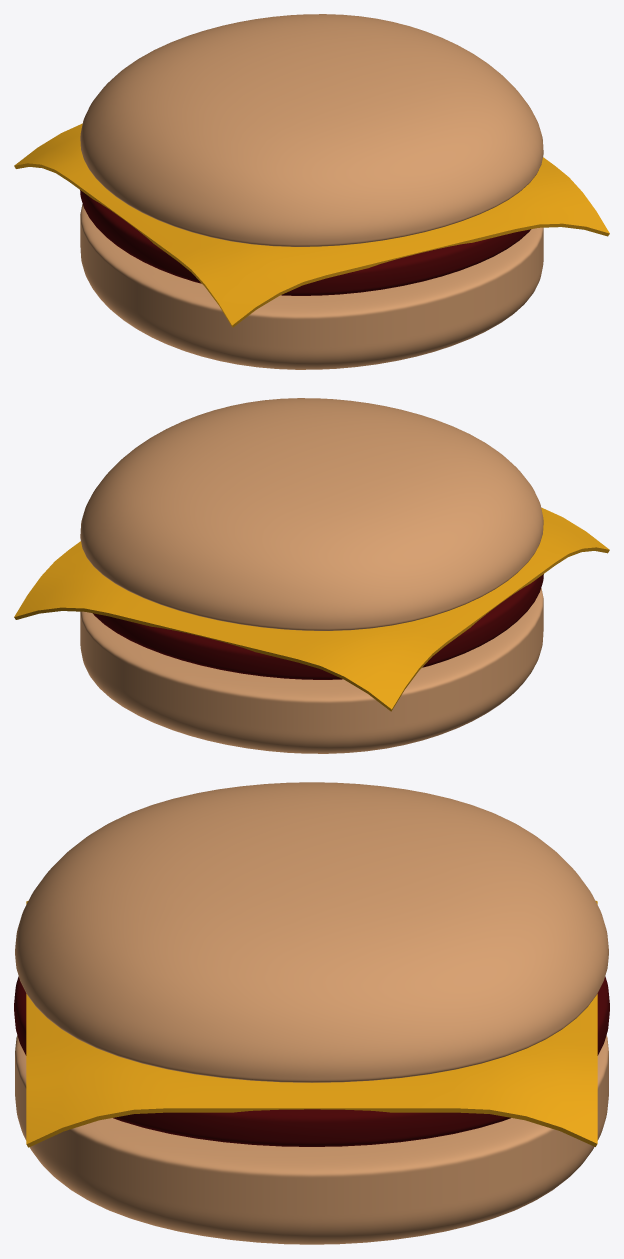
File: burger.glb
The picture shows the model from 3 angles, top to bottom: view 1: azimuth 30°, elevation 25°; view 2: azimuth 150°, elevation 25°; view 3: azimuth 270°, elevation 25°; orthographic projection. The views are drawn at different scales.
Parts seen in each view (by area): view 1: Bum.001, Bum, Plane, Pad; view 2: Bum.001, Bum, Plane, Pad; view 3: Bum.001, Bum, Plane, Pad.
Part boxes in pixels (x1,y1,x2,y2): Bum.001: (80,14,543,246); Bum: (80,204,543,369); Plane: (14,123,609,327); Pad: (80,190,530,295); Bum.001: (80,398,543,630); Bum: (80,588,543,753); Plane: (14,507,609,711); Pad: (93,574,543,679); Bum.001: (15,782,608,1082); Bum: (15,1035,608,1244); Plane: (26,900,597,1147); Pad: (14,976,609,1146).
Size of the model in its own units: 9.16 by 5.24 by 9.16.
